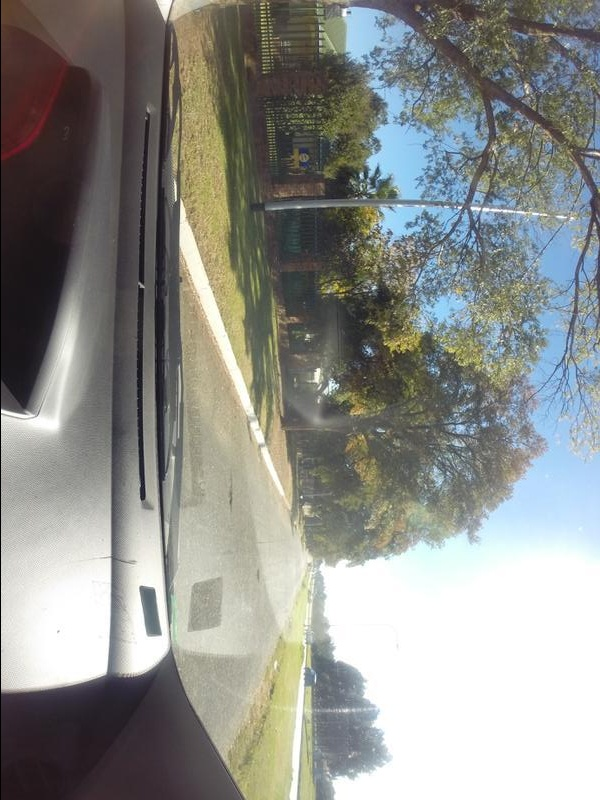pothole: (221, 479, 241, 516), (251, 569, 265, 589)
